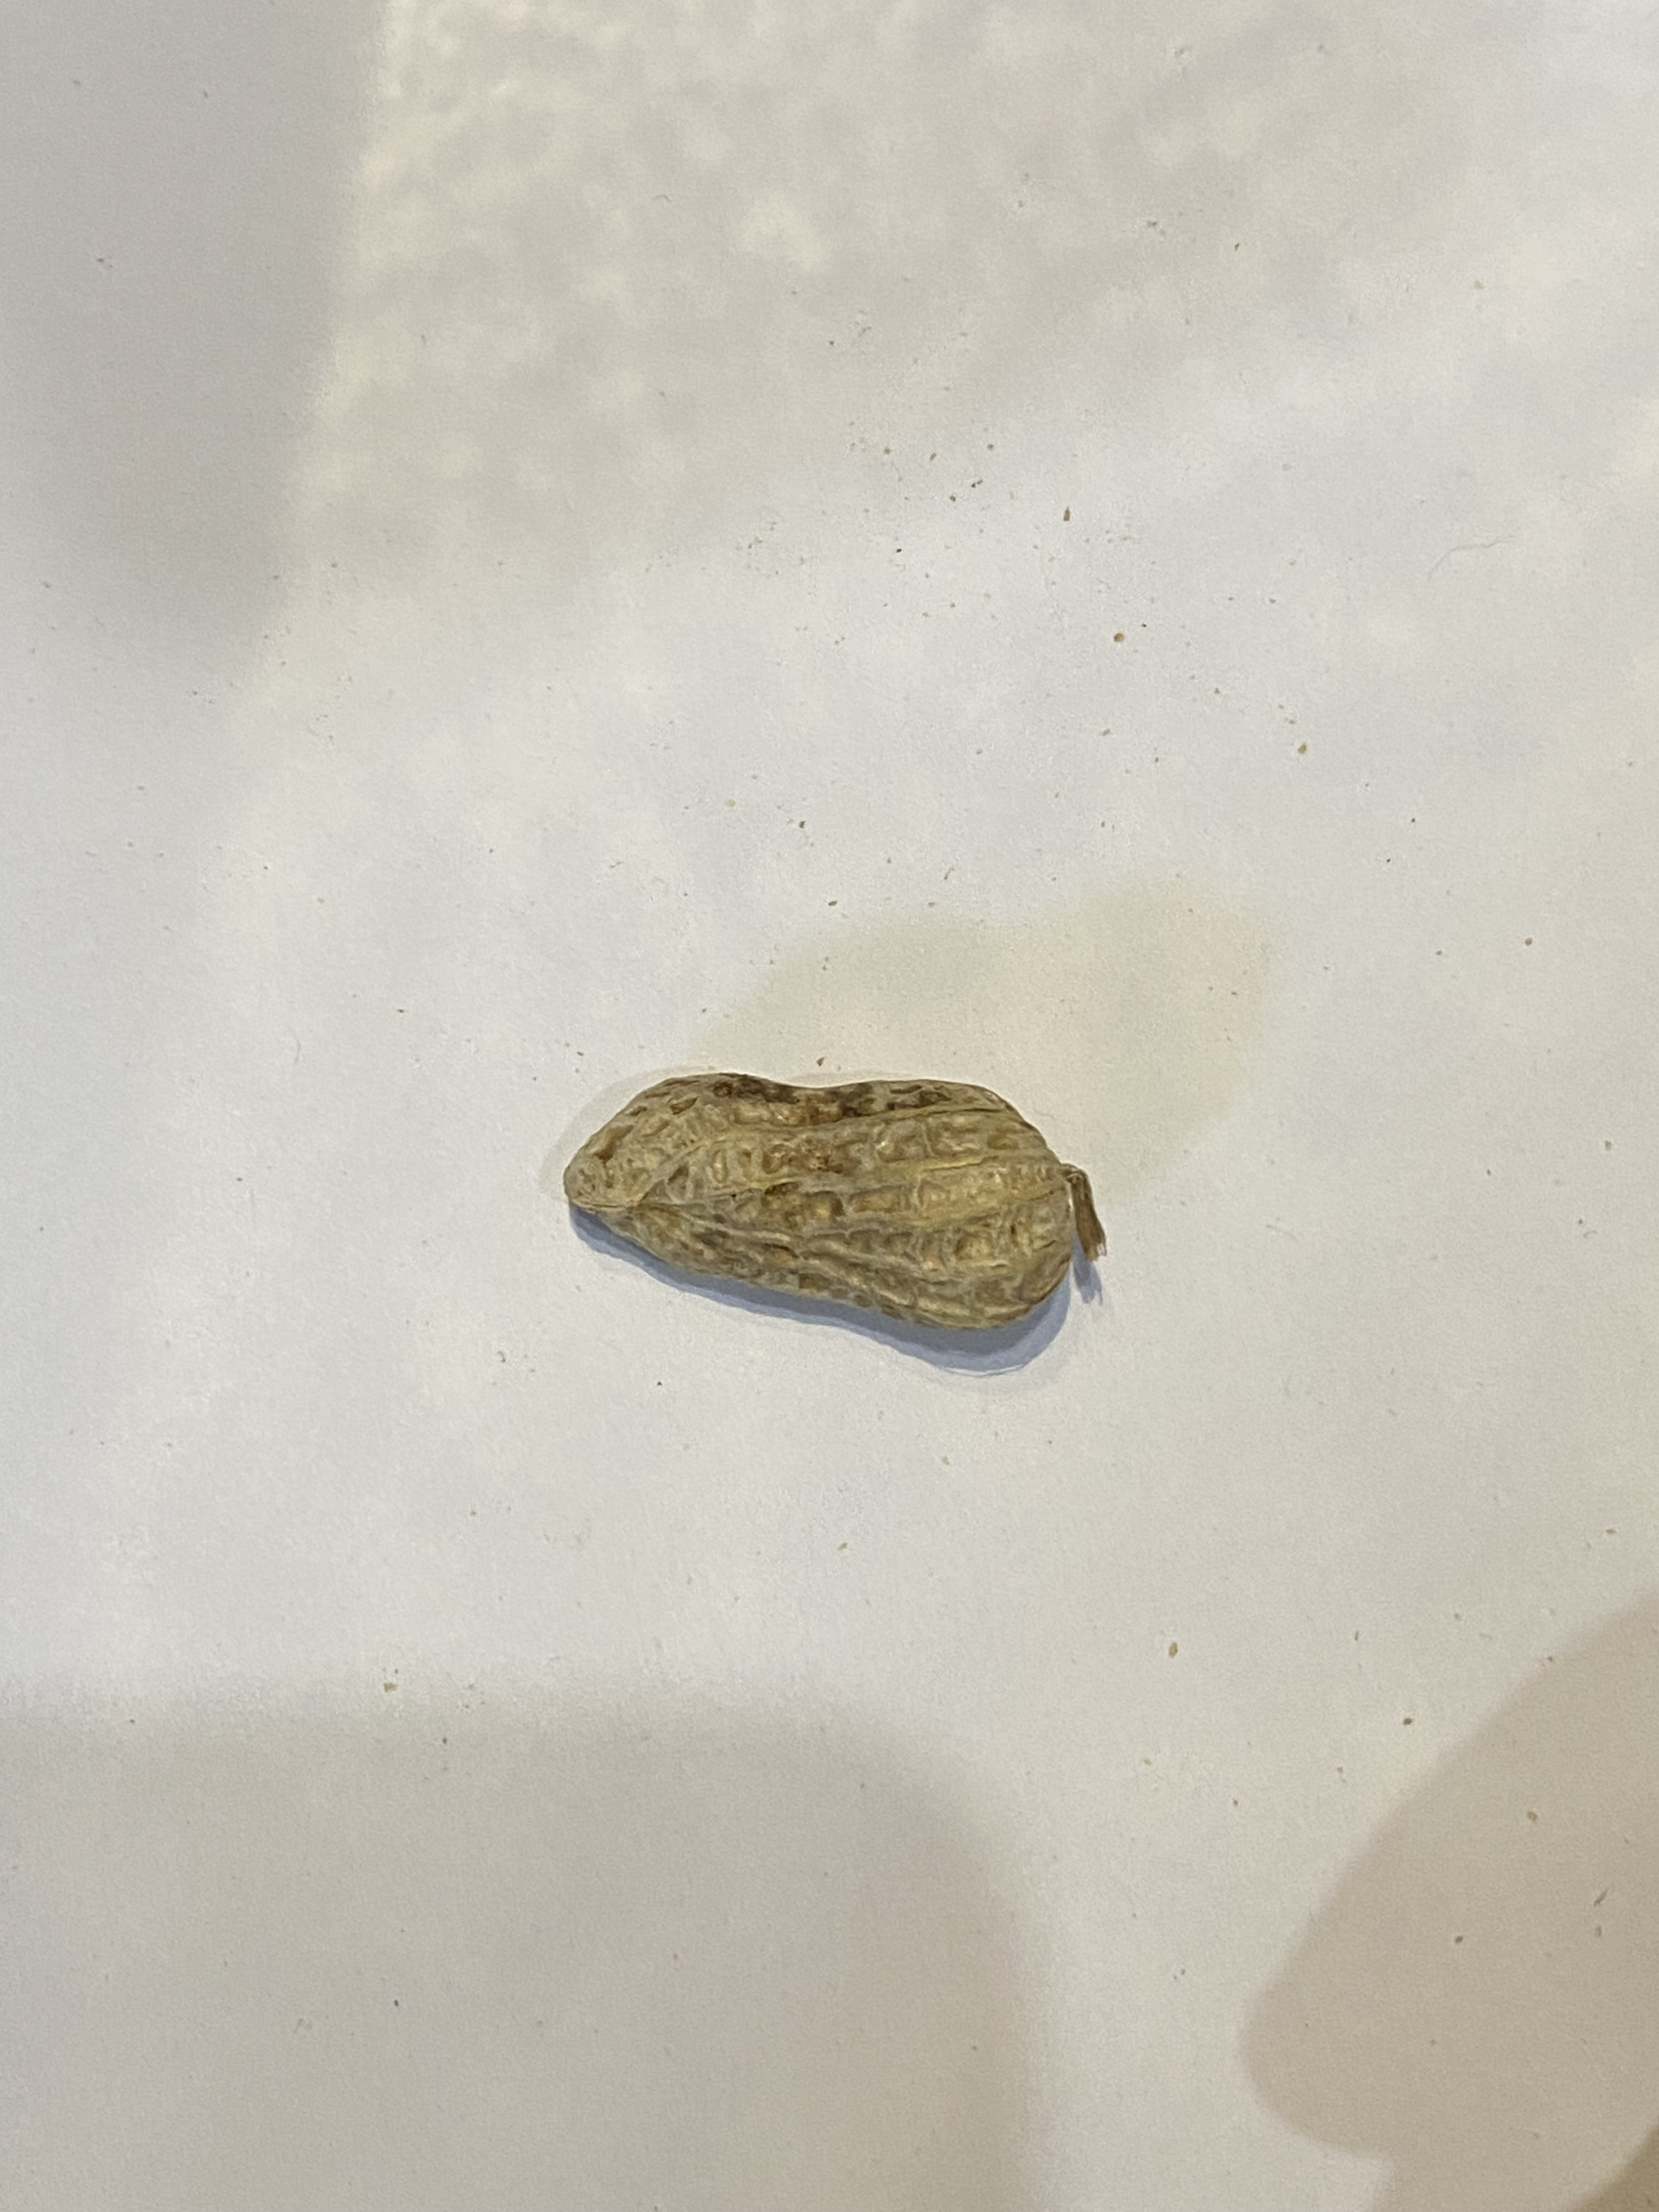kacang2: (563, 1057, 1101, 1357)
